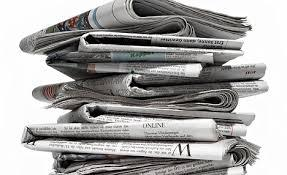Printing industry: (3, 4, 287, 175)
